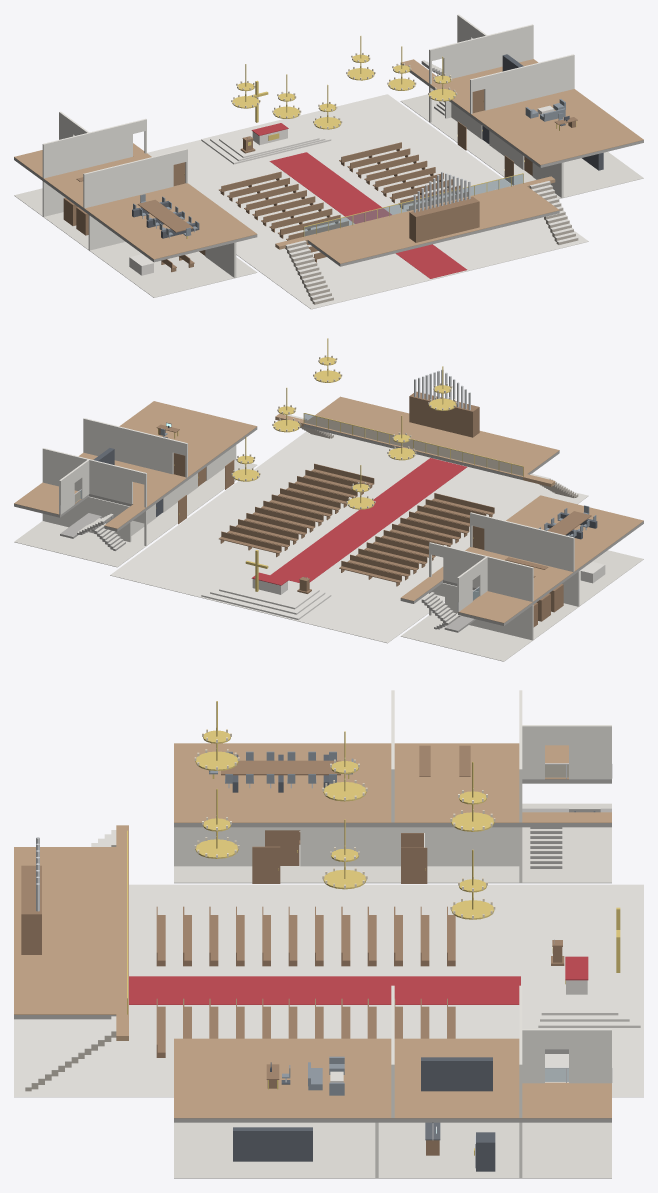
Rendered from SM_Cathedrale_Saint_Paul_Interieur.fbx.
3 views of the same model, one above another, from view 1: azimuth 30°, elevation 25°; view 2: azimuth 150°, elevation 25°; view 3: azimuth 270°, elevation 25° (orthographic). The views are drawn at different scales.
Parts seen in each view (by area): view 1: Cath_Int_RDC_Structure, Cath_Int_R1_Structure, Cath_Int_RDC_Mobilier, Cath_Int_R1_Mobilier; view 2: Cath_Int_RDC_Structure, Cath_Int_R1_Structure, Cath_Int_RDC_Mobilier, Cath_Int_R1_Mobilier; view 3: Cath_Int_RDC_Structure, Cath_Int_R1_Structure, Cath_Int_RDC_Mobilier, Cath_Int_R1_Mobilier, Door_Aile_Ouest_1, Door_Aile_Ouest_2, Door_Chapelle_RDC.
Boxes of the visible parts, x1,y1,x2,y2 form: Cath_Int_RDC_Structure: [14, 60, 643, 309]; Cath_Int_R1_Structure: [14, 14, 643, 266]; Cath_Int_RDC_Mobilier: [63, 36, 603, 275]; Cath_Int_R1_Mobilier: [76, 54, 577, 242]; Cath_Int_RDC_Structure: [14, 414, 643, 661]; Cath_Int_R1_Structure: [14, 396, 643, 625]; Cath_Int_RDC_Mobilier: [201, 338, 605, 627]; Cath_Int_R1_Mobilier: [93, 369, 597, 577]; Cath_Int_RDC_Structure: [14, 803, 643, 1178]; Cath_Int_R1_Structure: [14, 690, 612, 1122]; Cath_Int_RDC_Mobilier: [156, 701, 640, 1171]; Cath_Int_R1_Mobilier: [21, 745, 492, 1095]; Door_Aile_Ouest_1: [252, 846, 280, 883]; Door_Aile_Ouest_2: [401, 847, 427, 883]; Door_Chapelle_RDC: [265, 830, 299, 865].
Size of the model in its own units: 5540 by 1711 by 3940.
